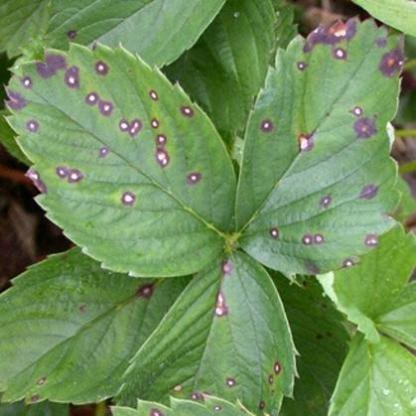Strawberry_Leaf_Spot: (0, 40, 237, 278), (234, 15, 407, 284), (111, 247, 301, 415), (0, 245, 195, 407), (0, 0, 227, 69), (262, 265, 354, 415)
